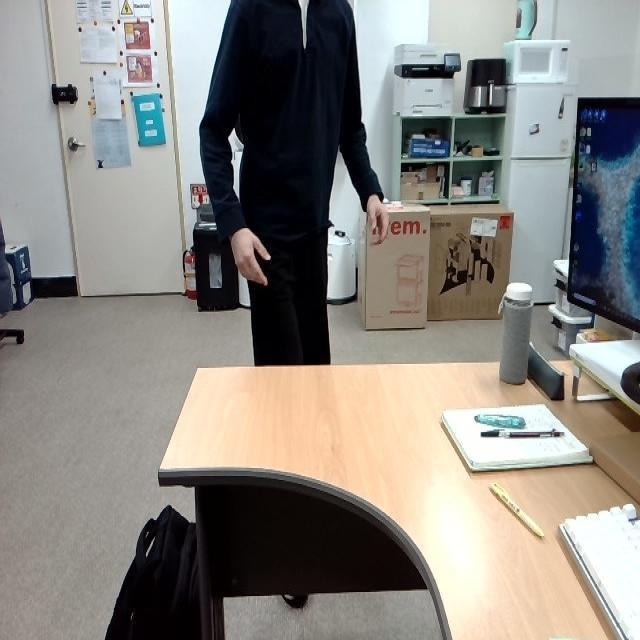bare_hand: (223, 224, 279, 290), (362, 191, 392, 258)
